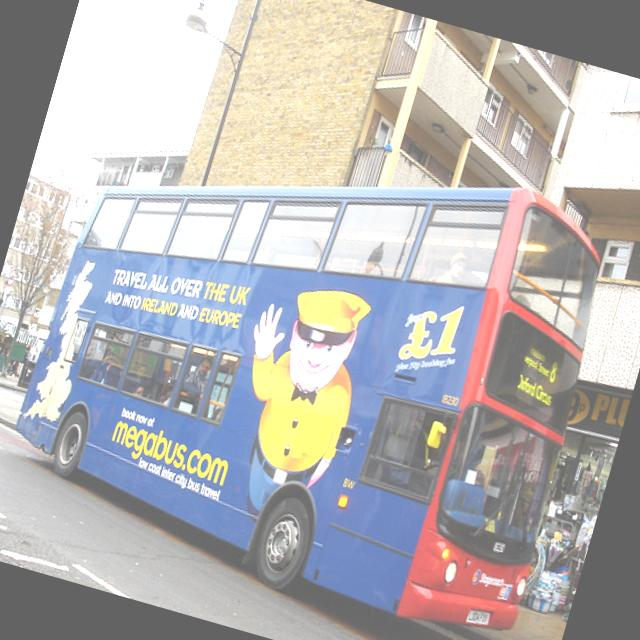Vehicle: (0, 69, 636, 640)
